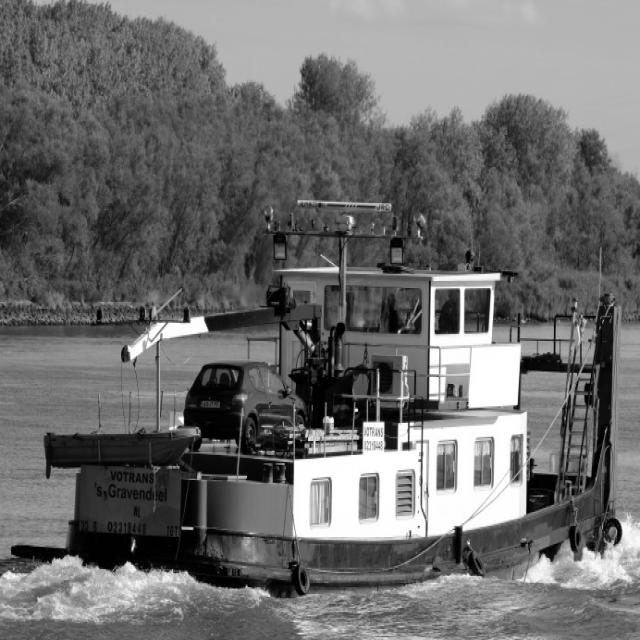tugboat: (6, 195, 626, 611)
